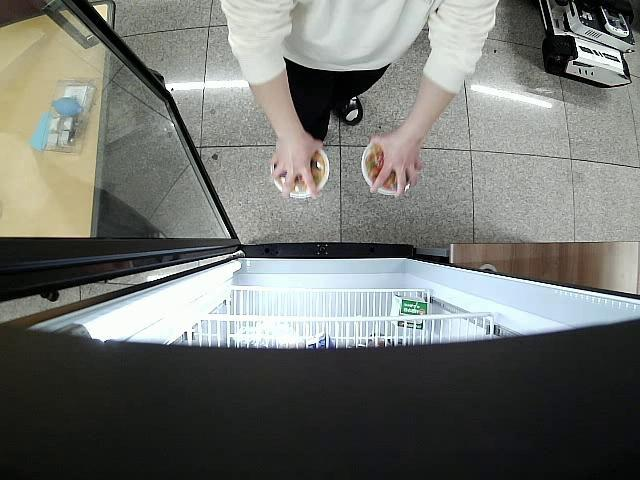09_yukGaeJang: (271, 147, 330, 200), (360, 145, 412, 194)
